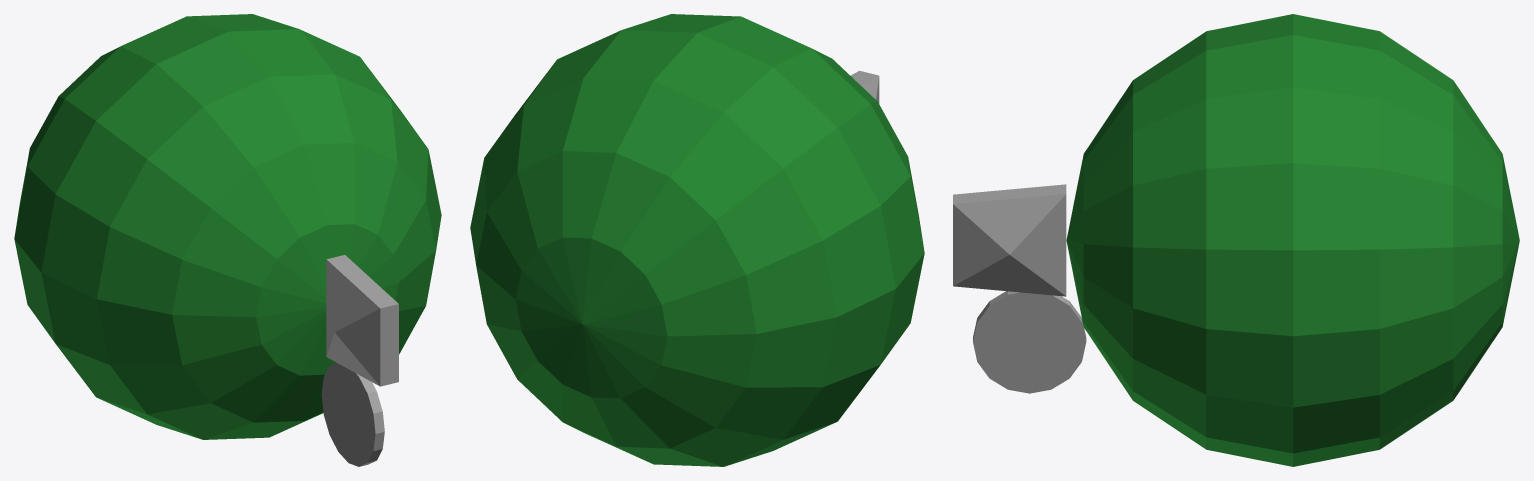
File: wep_grenade.glb
3 views of the same model, side by side, from view 1: azimuth 30°, elevation 25°; view 2: azimuth 150°, elevation 25°; view 3: azimuth 270°, elevation 25° (orthographic). The views are drawn at different scales.
Parts seen in each view (by area): view 1: Sphere.001; view 2: Sphere.001; view 3: Sphere.001.
Boxes of the visible parts, x1=… form: Sphere.001: x1=14, y1=14, x2=441, y2=466; Sphere.001: x1=470, y1=14, x2=924, y2=466; Sphere.001: x1=953, y1=14, x2=1519, y2=466.
Size of the model in its own units: 0.8 by 0.8 by 1.
